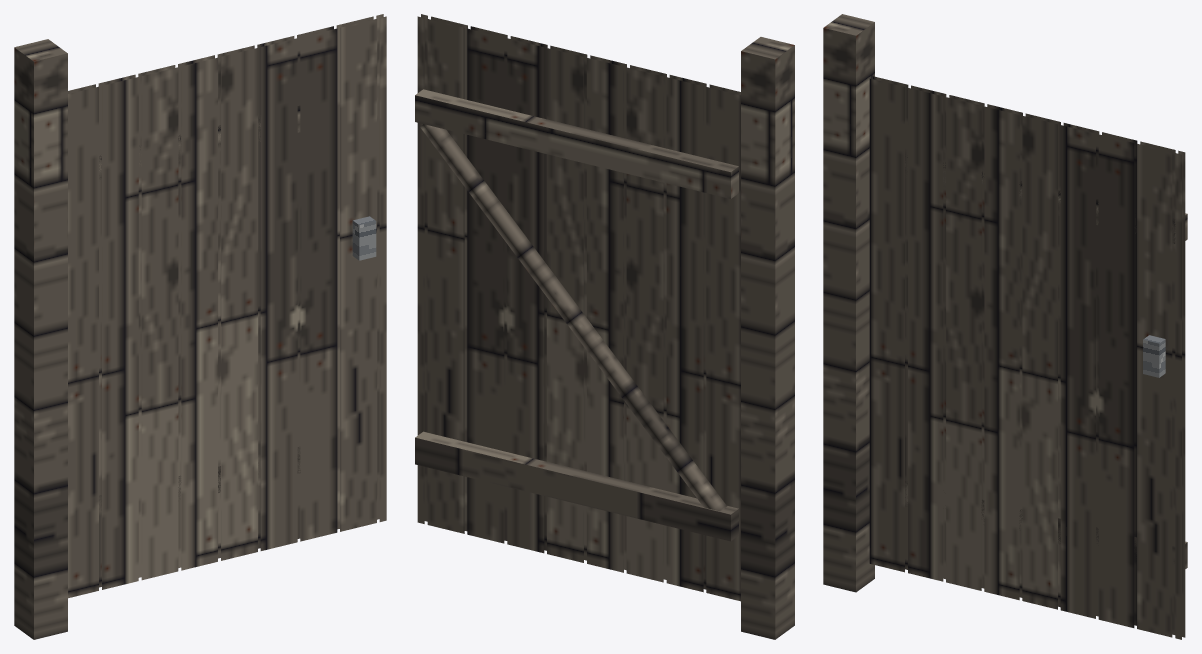
File: FN_FenceGate_Privacy_1.25m.obj
3 renders of one model, left to right at view 1: azimuth 30°, elevation 25°; view 2: azimuth 150°, elevation 25°; view 3: azimuth 330°, elevation 25°, orthographic. The views are drawn at different scales.
Parts seen in each view (by area): view 1: GateLeaf_M_Arch_WoodPlanksAged, FN_FenceGate_Privacy_1.25m_Mesh_M_Arch_WoodPlanksAged, GateLeaf_M_Furn_MetalBrushed; view 2: GateLeaf_M_Arch_WoodPlanksAged, FN_FenceGate_Privacy_1.25m_Mesh_M_Arch_WoodPlanksAged; view 3: GateLeaf_M_Arch_WoodPlanksAged, FN_FenceGate_Privacy_1.25m_Mesh_M_Arch_WoodPlanksAged, GateLeaf_M_Furn_MetalBrushed.
Part boxes in pixels (box(x1,y1,x2,y2)): GateLeaf_M_Arch_WoodPlanksAged: box(68, 14, 386, 598); FN_FenceGate_Privacy_1.25m_Mesh_M_Arch_WoodPlanksAged: box(14, 39, 67, 639); GateLeaf_M_Furn_MetalBrushed: box(352, 216, 376, 260); GateLeaf_M_Arch_WoodPlanksAged: box(415, 14, 740, 601); FN_FenceGate_Privacy_1.25m_Mesh_M_Arch_WoodPlanksAged: box(741, 37, 794, 639); GateLeaf_M_Arch_WoodPlanksAged: box(869, 76, 1187, 639); FN_FenceGate_Privacy_1.25m_Mesh_M_Arch_WoodPlanksAged: box(823, 14, 874, 592); GateLeaf_M_Furn_MetalBrushed: box(1143, 335, 1165, 377).
Bounding box in the file's own units: 1.28 × 1.95 × 0.13.
Materials: 2 (2 with a texture image).
